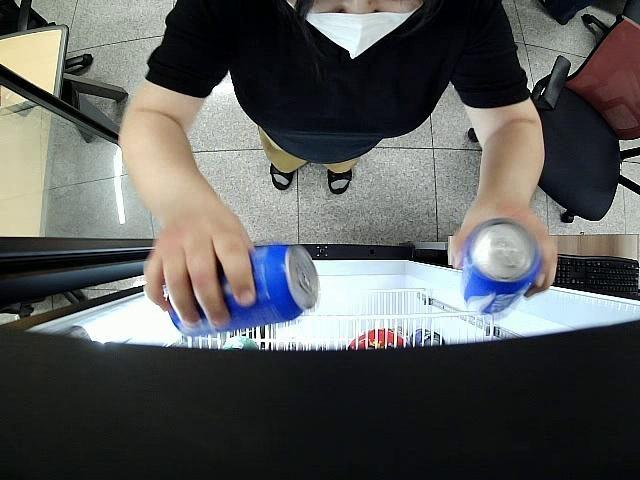13_pocariSweat: (166, 244, 318, 336), (458, 218, 539, 318)
